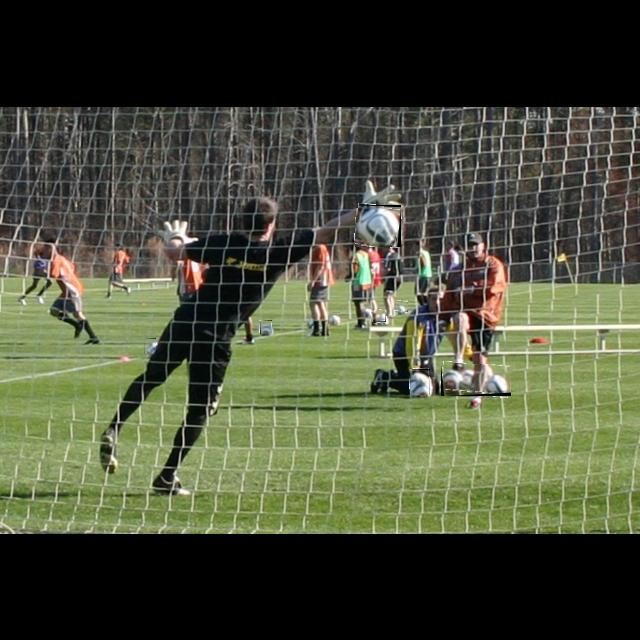Football: (441, 364, 511, 396), (355, 205, 401, 247), (410, 369, 430, 395), (144, 338, 156, 354), (260, 320, 272, 334), (372, 310, 386, 322), (394, 300, 408, 312), (328, 312, 340, 324)
